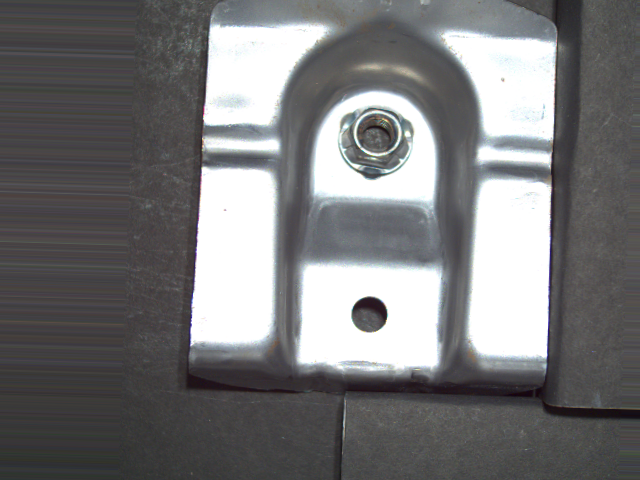good: (335, 102, 419, 184)
